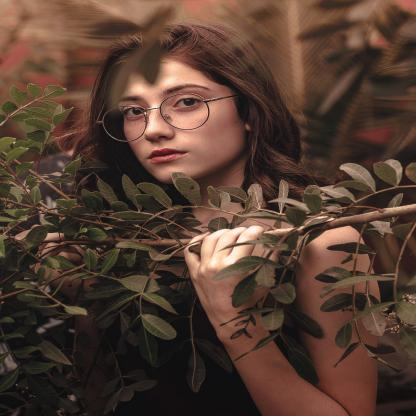Eye: (171, 94, 205, 112), (123, 104, 148, 121)
Mouth: (145, 147, 189, 163)
Nose: (144, 109, 174, 142)
